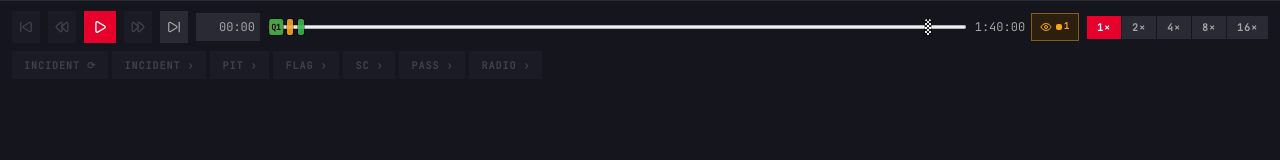
Test case: PlaybackBar marker interactions › hides and shows every scrubber marker with one toggle
The width and height of the screenshot is (1280, 160).
What coordinates should you click on to do the following:
click the button named "Hide timeline markers"
I would click on:
 (1055, 27)
Its box is [1031,13,1079,41].
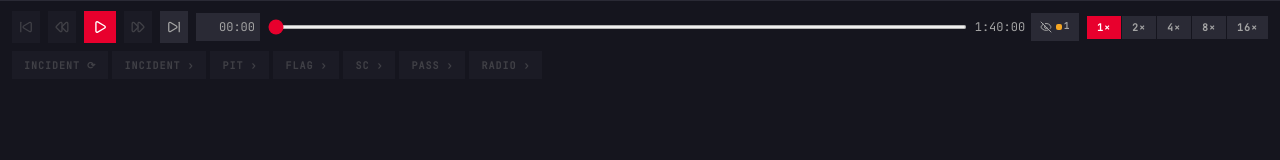
Now the button named "Show timeline markers" is not pressed
What coordinates should you click on to do the following:
click the button named "Show timeline markers"
I would click on:
 (1055, 27)
Its box is [1031,13,1079,41].
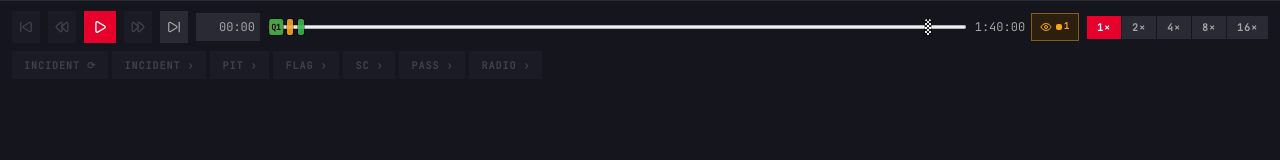
Now the button named "Jump to incident" is shown, box [280,17,300,37]
Now the button named "Jump to race start" is shown, box [291,17,311,37]
Now the button named "Jump to chequered flag" is shown, box [918,17,938,37]
